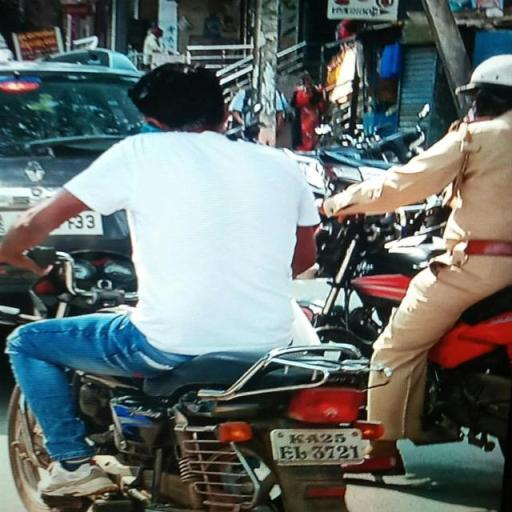numberplate: (271, 425, 370, 466)
using mobile: (131, 116, 177, 134)
